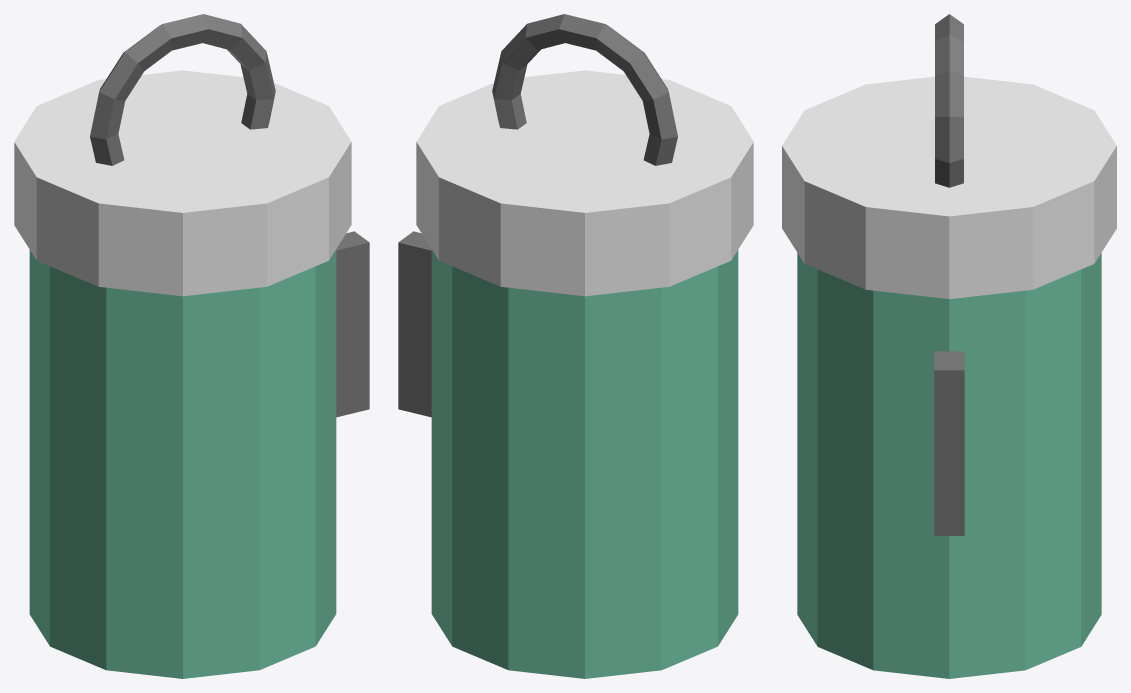
The model's file is food-cooler-flask.glb.
3 views of the same model, side by side, from view 1: azimuth 30°, elevation 25°; view 2: azimuth 150°, elevation 25°; view 3: azimuth 270°, elevation 25° (orthographic).
Visible parts, largest first — view 1: food-cooler-flask_Cylinder, food-cooler-flask_Cylinder.001, food-cooler-flask_Torus.005, food-cooler-flask_Cube; view 2: food-cooler-flask_Cylinder, food-cooler-flask_Cylinder.001, food-cooler-flask_Torus.005, food-cooler-flask_Cube; view 3: food-cooler-flask_Cylinder, food-cooler-flask_Cylinder.001, food-cooler-flask_Cube, food-cooler-flask_Torus.005.
Boxes of the visible parts, left/top/right/bottom form: food-cooler-flask_Cylinder: left=29, top=249, right=336, bottom=678; food-cooler-flask_Cylinder.001: left=14, top=70, right=351, bottom=296; food-cooler-flask_Torus.005: left=90, top=14, right=275, bottom=165; food-cooler-flask_Cube: left=336, top=231, right=369, bottom=417; food-cooler-flask_Cylinder: left=431, top=249, right=738, bottom=678; food-cooler-flask_Cylinder.001: left=416, top=70, right=753, bottom=296; food-cooler-flask_Torus.005: left=492, top=14, right=677, bottom=165; food-cooler-flask_Cube: left=398, top=231, right=431, bottom=417; food-cooler-flask_Cylinder: left=797, top=253, right=1101, bottom=678; food-cooler-flask_Cylinder.001: left=782, top=76, right=1116, bottom=299; food-cooler-flask_Cube: left=934, top=351, right=964, bottom=535; food-cooler-flask_Torus.005: left=935, top=14, right=963, bottom=187.
Bounding box in the file's own units: 0.245 × 0.4282 × 0.22.
